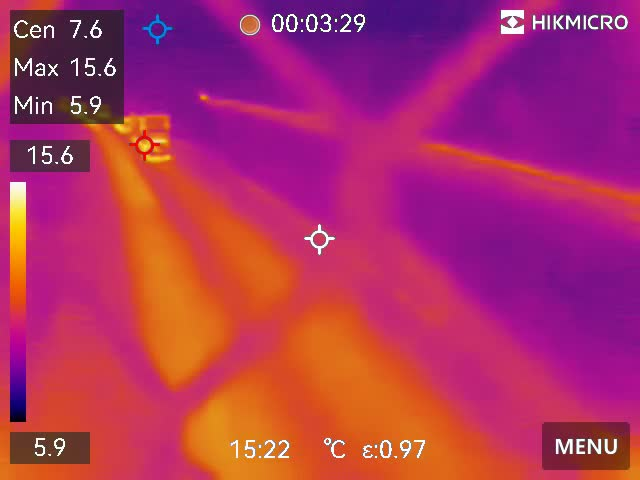heavyTruck: (141, 110, 177, 166)
